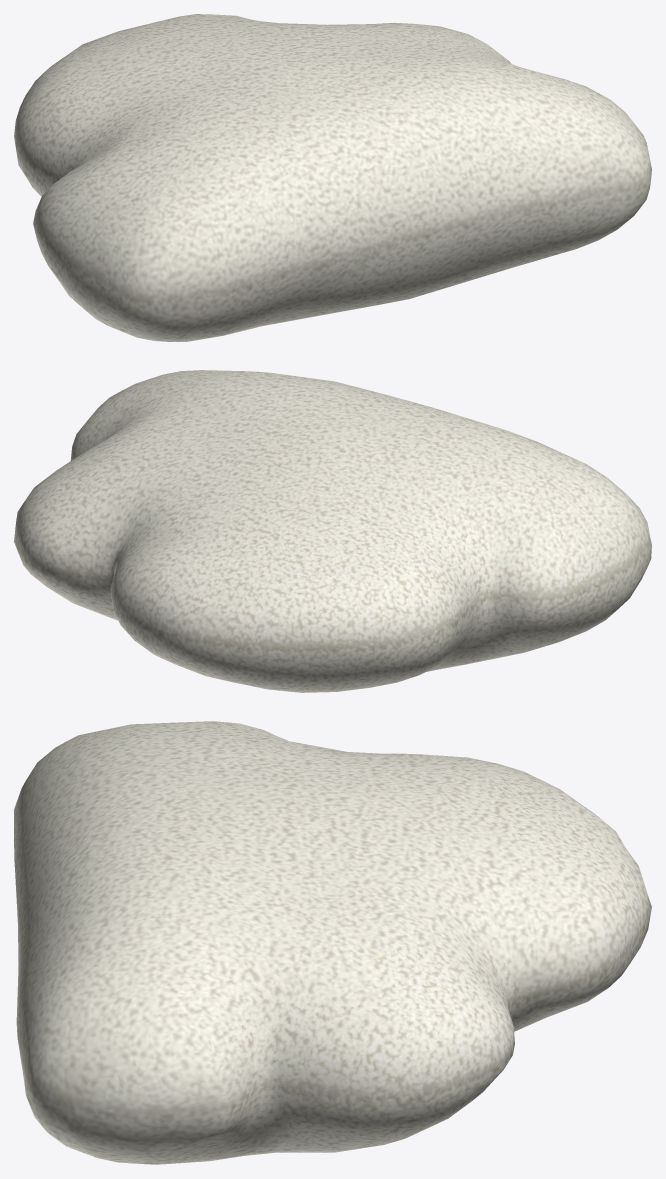
3 renders of one model, top to bottom at view 1: azimuth 30°, elevation 25°; view 2: azimuth 150°, elevation 25°; view 3: azimuth 270°, elevation 25°, orthographic. The views are drawn at different scales.
Parts seen in each view (by area): view 1: ASY_ART_80629209_S01_NV01; view 2: ASY_ART_80629209_S01_NV01; view 3: ASY_ART_80629209_S01_NV01.
Part boxes in pixels (bbox=[...]): ASY_ART_80629209_S01_NV01: bbox=[14, 14, 651, 341]; ASY_ART_80629209_S01_NV01: bbox=[14, 370, 651, 692]; ASY_ART_80629209_S01_NV01: bbox=[14, 721, 651, 1164].
Bounding box in the file's own units: 0.4548 × 0.1652 × 0.3624.
Materials: 1 (1 with a texture image).
